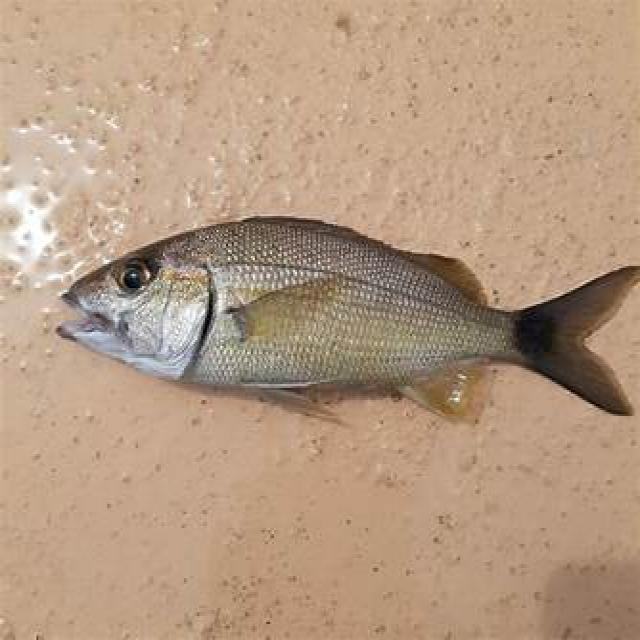Healthy Fish: (50, 203, 640, 428)
